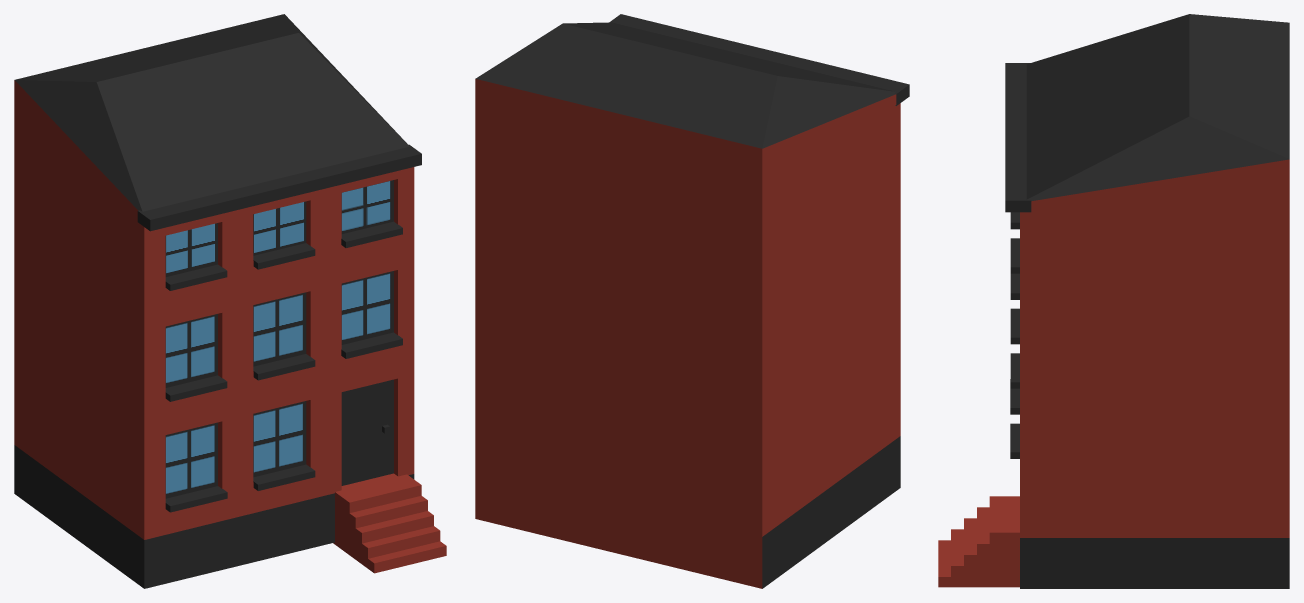
The model's file is NormalRed.obj.
The picture shows the model from 3 angles, left to right: view 1: azimuth 30°, elevation 25°; view 2: azimuth 150°, elevation 25°; view 3: azimuth 270°, elevation 25°; orthographic projection. The views are drawn at different scales.
Visible parts, largest first — view 1: ZwyklyZwyklyCzerwony.001; view 2: ZwyklyZwyklyCzerwony.001; view 3: ZwyklyZwyklyCzerwony.001.
Boxes of the visible parts, x1,y1,x2,y2 form: ZwyklyZwyklyCzerwony.001: [14, 14, 446, 588]; ZwyklyZwyklyCzerwony.001: [475, 14, 909, 588]; ZwyklyZwyklyCzerwony.001: [938, 14, 1289, 588].
Size of the model in its own units: 6.04 by 9.37 by 6.52.
